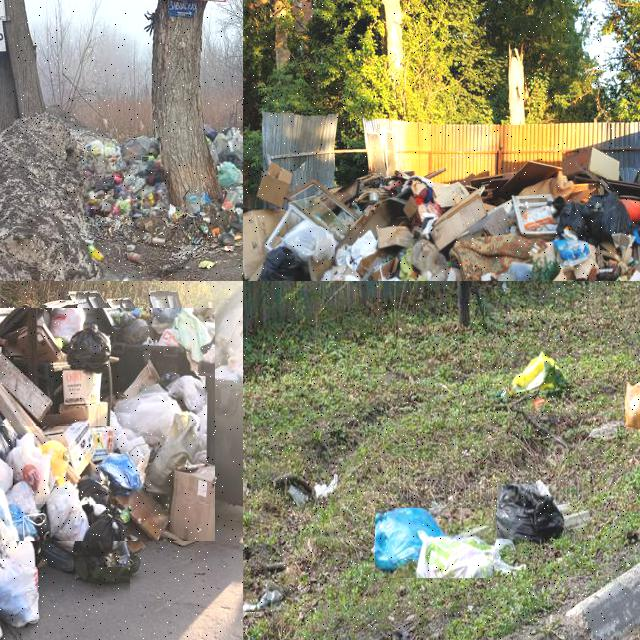lixeira: (0, 309, 217, 543), (243, 172, 639, 280), (0, 436, 132, 639), (97, 383, 181, 492), (376, 509, 494, 580), (84, 138, 171, 218), (185, 299, 242, 390), (26, 322, 104, 386), (204, 123, 242, 248), (498, 484, 564, 540), (133, 311, 188, 372), (509, 352, 556, 396), (243, 587, 283, 614), (625, 381, 639, 430), (86, 241, 106, 263), (127, 244, 146, 262), (186, 194, 201, 214), (151, 236, 168, 244)
